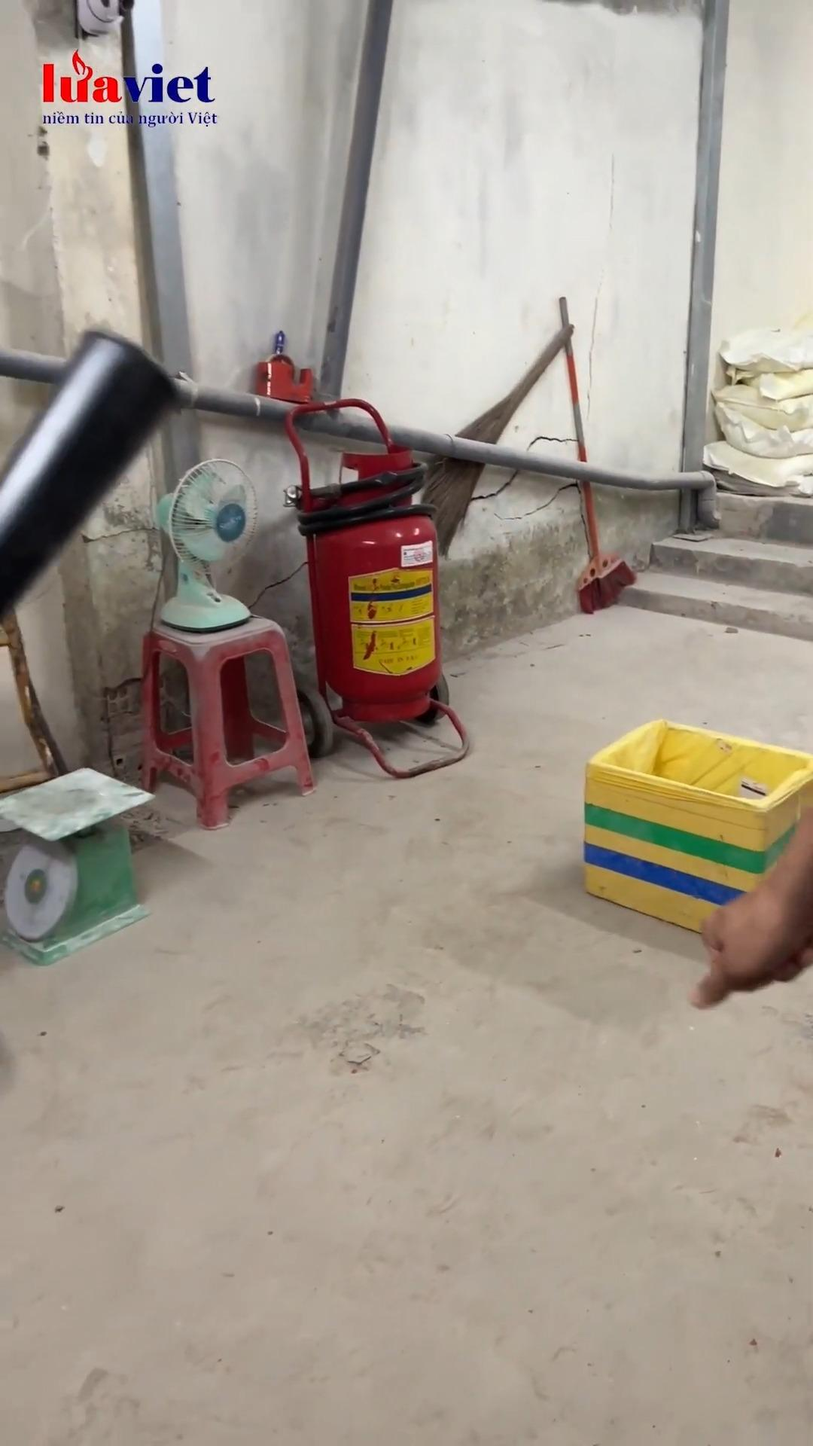FireExtinguisher: (284, 377, 472, 765)
